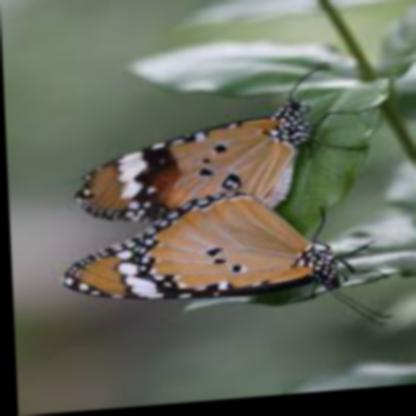Butterfly: (59, 189, 392, 349), (69, 68, 367, 228)
